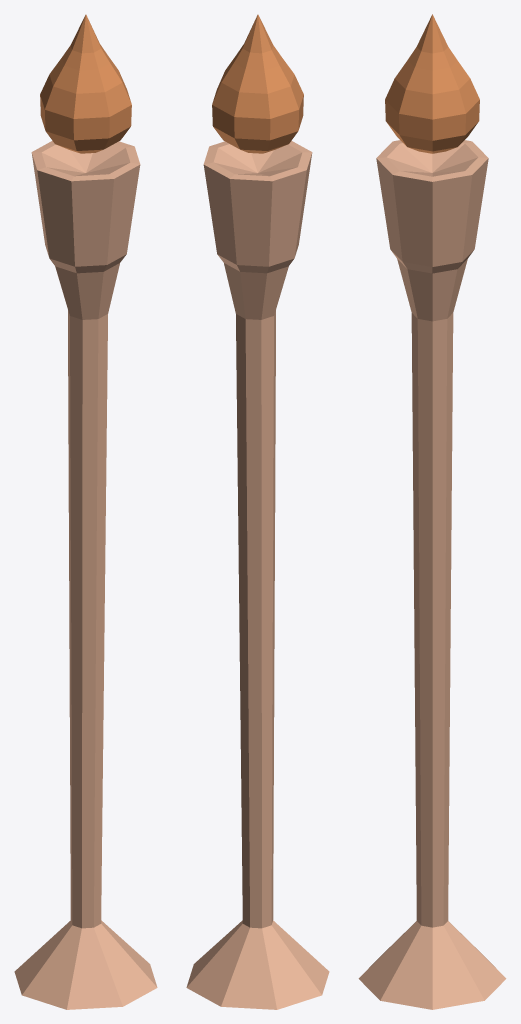
The model's file is tikilamp.fbx.
The picture shows the model from 3 angles, left to right: view 1: azimuth 30°, elevation 25°; view 2: azimuth 150°, elevation 25°; view 3: azimuth 270°, elevation 25°; orthographic projection.
Visible parts, largest first — view 1: tiki_post, flame; view 2: tiki_post, flame; view 3: tiki_post, flame.
Part boxes in pixels (box(x1,y1,x2,y2)): tiki_post: box(14, 141, 157, 1009); flame: box(40, 14, 131, 153); tiki_post: box(186, 141, 329, 1009); flame: box(212, 14, 303, 153); tiki_post: box(358, 140, 506, 1009); flame: box(385, 14, 479, 153).
Bounding box in the file's own units: 0.6006 × 4.32 × 0.6006.
